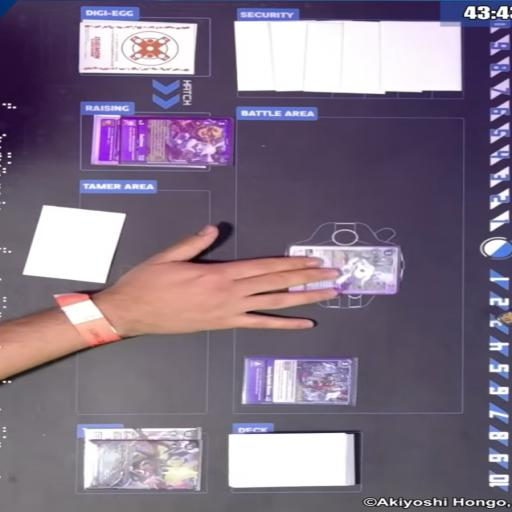card: (281, 242, 400, 298), (82, 440, 201, 490), (119, 117, 235, 167), (242, 356, 354, 406), (78, 425, 205, 444), (88, 116, 128, 166)
